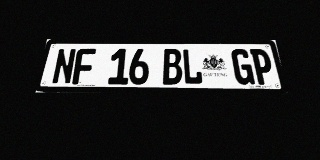1: (108, 49, 130, 84)
6: (129, 49, 149, 84)
B: (163, 49, 183, 84)
F: (72, 49, 96, 84)
G: (231, 49, 255, 85)
L: (182, 49, 203, 84)
N: (51, 49, 77, 84)
P: (250, 49, 275, 85)
